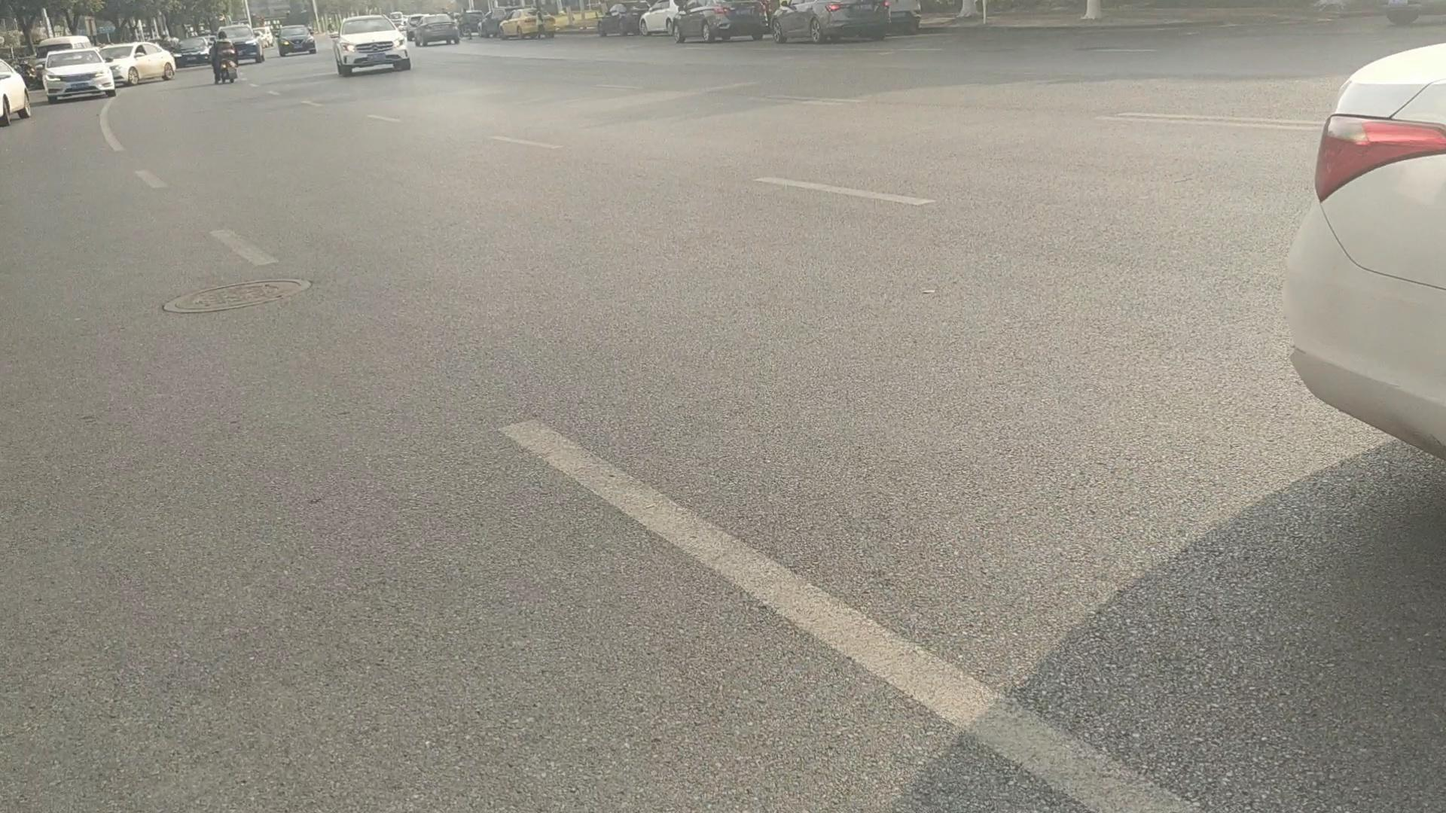car: (1282, 34, 1445, 467), (773, 0, 895, 44), (37, 42, 116, 103), (334, 15, 410, 78), (676, 0, 778, 42), (101, 41, 177, 88), (1, 58, 32, 124), (407, 14, 462, 48), (218, 24, 264, 64), (597, 2, 651, 36), (211, 32, 240, 83), (640, 2, 682, 35), (883, 0, 921, 33), (499, 9, 541, 38), (279, 26, 318, 56), (475, 11, 505, 38)
